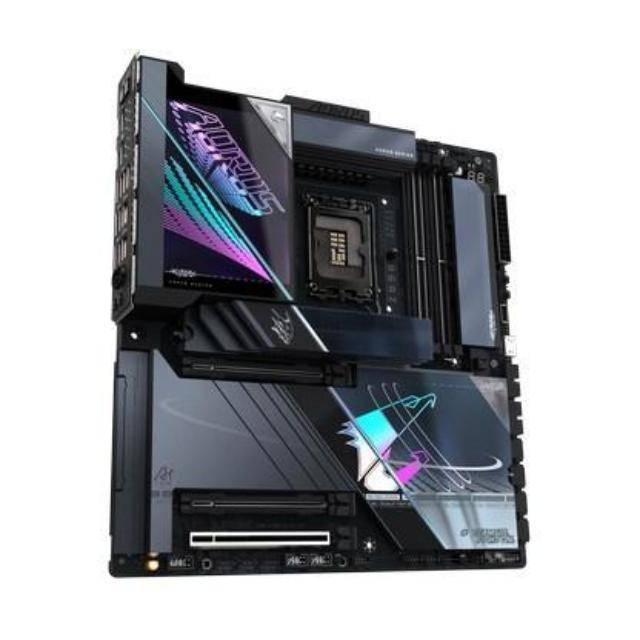Mainboard: (102, 49, 533, 583)
